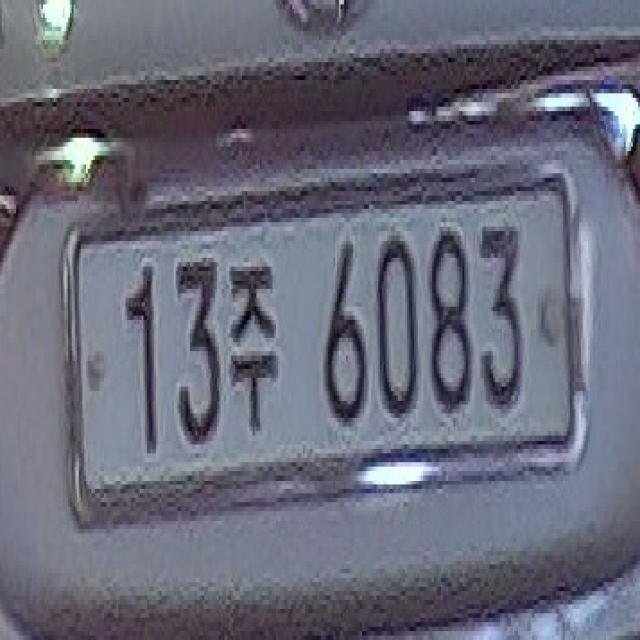0: (375, 218, 421, 440)
1: (122, 245, 167, 484)
3: (475, 205, 531, 431), (172, 244, 222, 476)
6: (321, 222, 371, 436)
8: (425, 214, 473, 436)
ju: (222, 231, 287, 458)
license_plate: (63, 147, 586, 556)
